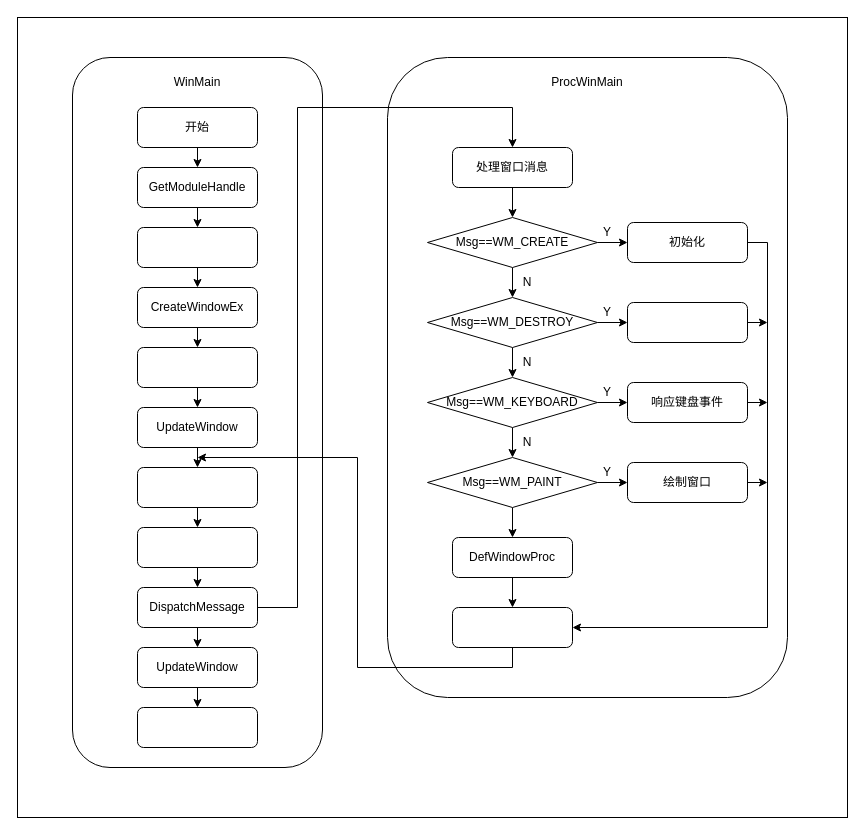
Image size: 865x835. Some labels were removed from this diagram. The shapes that lost their labels are listed below. From the top down, each one's centre as x and y in pixels, then its label:
At pixel 197 247: "RegisterClassEx".
At pixel 687 322: "销毁窗体".
At pixel 197 367: "ShowWindow".
At pixel 197 487: "GetMessage".
At pixel 197 547: "TranslateMessage".
At pixel 512 627: "消息处理完成".
At pixel 197 727: "结束".
